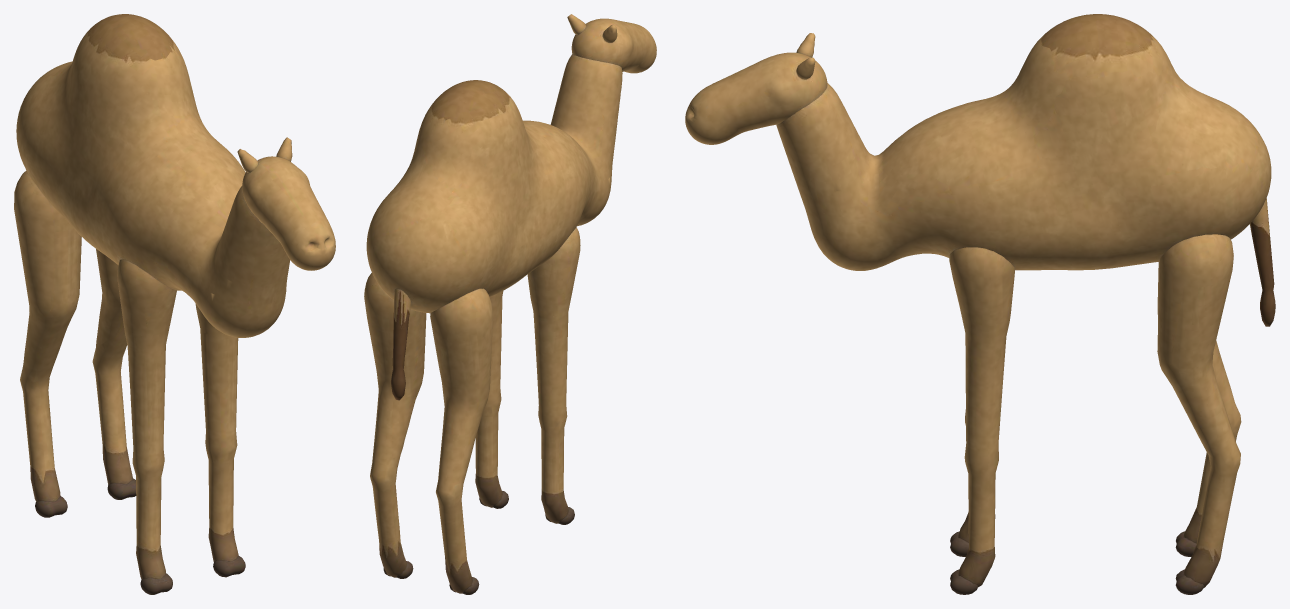
The model's file is animal_camel.glb.
3 views of the same model, side by side, from view 1: azimuth 30°, elevation 25°; view 2: azimuth 150°, elevation 25°; view 3: azimuth 270°, elevation 25° (orthographic). The views are drawn at different scales.
Visible parts, largest first — view 1: animal_camel, leg2, leg0, leg1, head, leg3; view 2: animal_camel, leg2, leg3, leg0, head, leg1, tail; view 3: animal_camel, leg3, leg1, head, leg2, tail.
Boxes of the visible parts, x1,y1,x2,y2 form: animal_camel: (16, 14, 290, 337); leg2: (14, 170, 81, 517); leg0: (117, 259, 176, 594); leg1: (195, 303, 245, 577); head: (237, 137, 335, 270); leg3: (92, 249, 136, 499); animal_camel: (366, 54, 622, 313); leg2: (430, 288, 492, 594); leg3: (364, 273, 426, 578); leg0: (527, 227, 580, 524); head: (567, 14, 656, 73); leg1: (475, 291, 508, 508); tail: (391, 288, 410, 400); animal_camel: (776, 14, 1271, 270); leg3: (1157, 234, 1240, 594); leg1: (949, 247, 1015, 594); head: (685, 33, 827, 144); leg2: (1157, 261, 1241, 556); tail: (1249, 198, 1275, 326).
Size of the model in its own units: 0.2115 by 0.7908 by 0.7638.
1 material, 1 textured.
